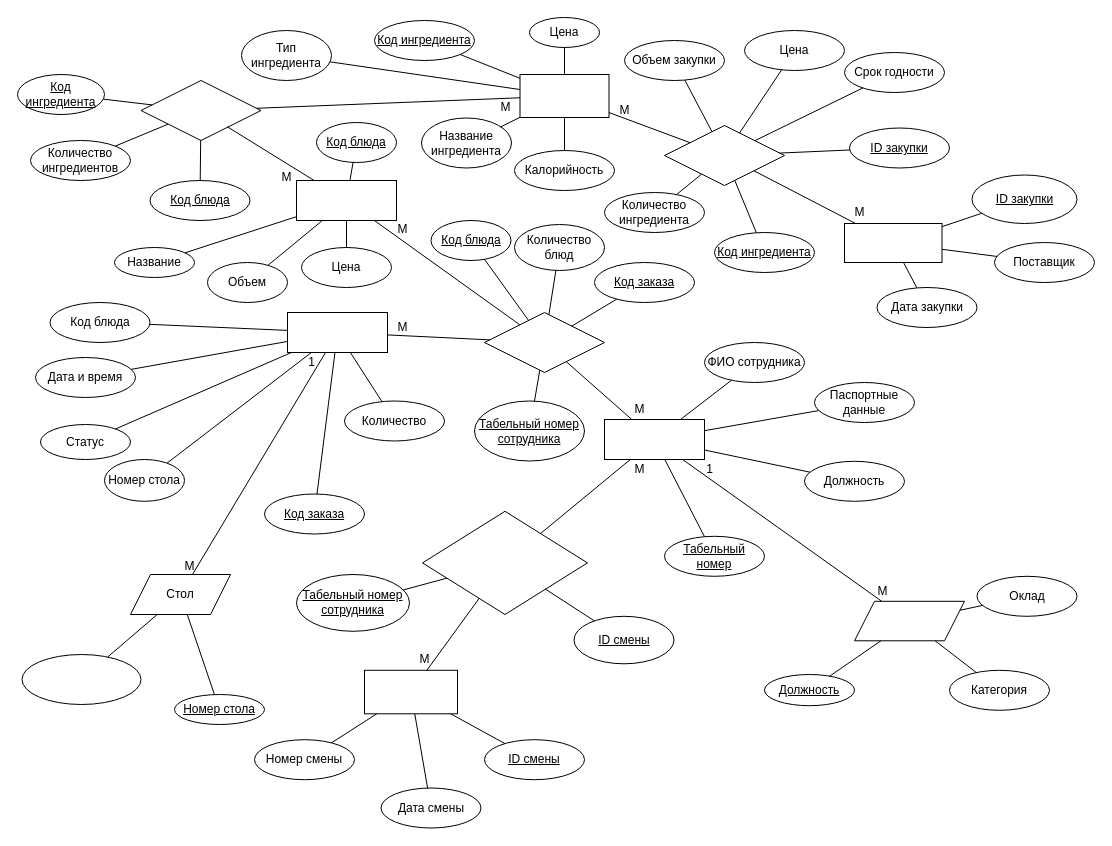
Image size: 1112x846. Some labels were removed from this diagram. The box of each missing label's shape, as (x1, y1, x2, y2) in pixels:
Блюдо: (296, 180, 396, 220)
Заказ: (286, 312, 388, 352)
Закупка: (844, 222, 942, 262)
Ингредиент: (519, 74, 609, 118)
Смена: (364, 669, 458, 714)
Состав блюда: (140, 80, 261, 140)
Состав заказа: (484, 312, 604, 372)
Состав закупки: (664, 124, 784, 186)
Составление графика работы: (422, 510, 588, 614)
Сотрудник: (604, 418, 704, 460)
Список должностей: (854, 600, 964, 641)
Статус (свободен/забронирован): (21, 654, 141, 704)
